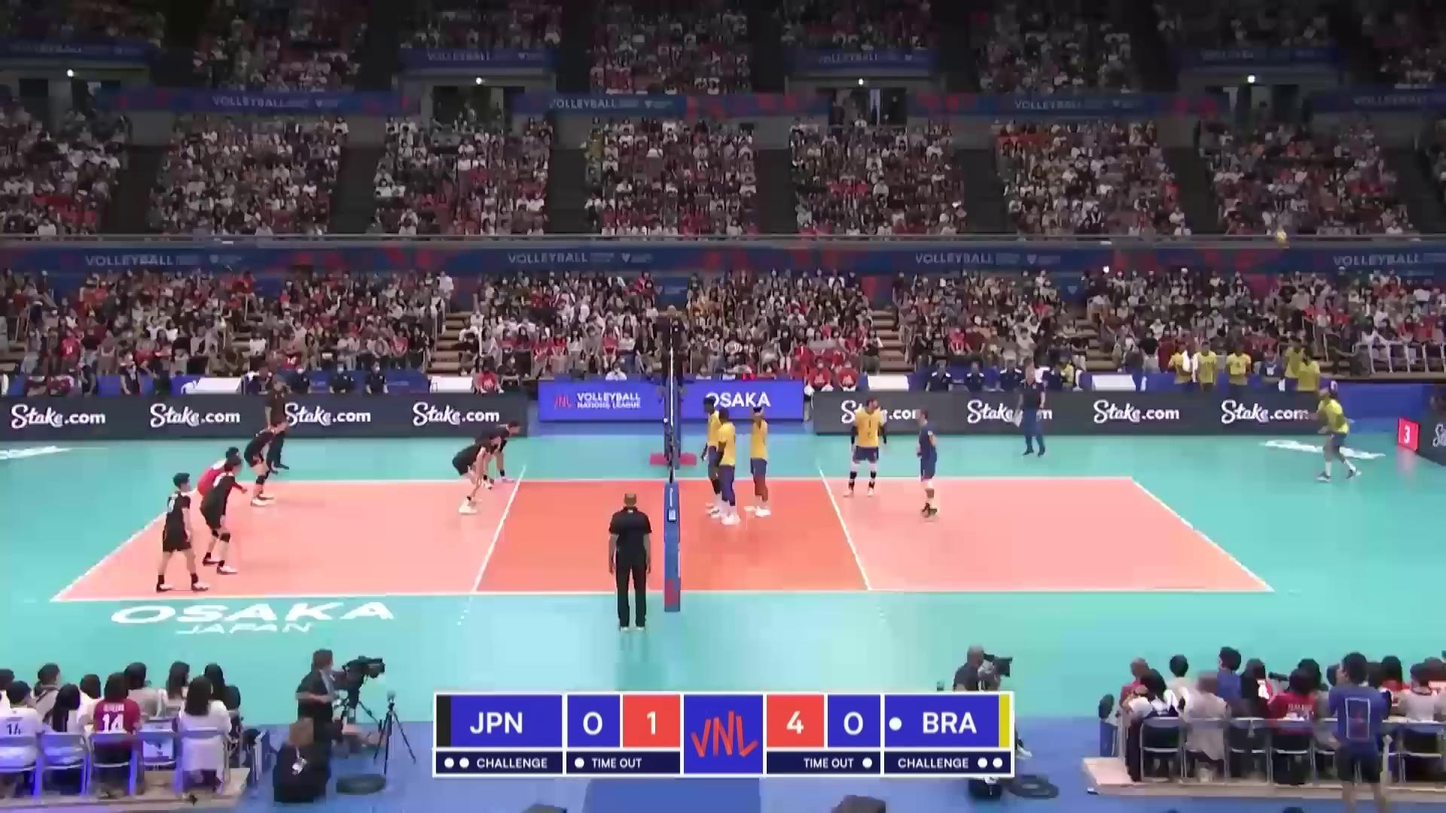player: (151, 474, 200, 594), (200, 455, 243, 575), (1312, 389, 1361, 484), (197, 447, 242, 541), (845, 397, 885, 501), (243, 415, 285, 507), (453, 434, 500, 516), (912, 409, 944, 520), (711, 410, 741, 525), (746, 405, 773, 518), (701, 397, 727, 513), (478, 421, 521, 491)
refree: (607, 493, 657, 629), (658, 305, 685, 392)
